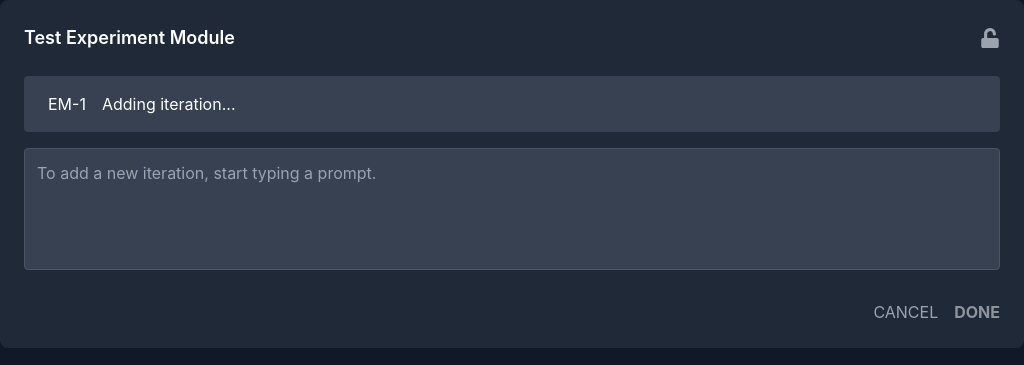
Test: ExperimentModule › collapses module when clicked
The width and height of the screenshot is (1024, 365).
Click the text "Test Experiment Module". click: (129, 38)
box: [24, 24, 235, 52]
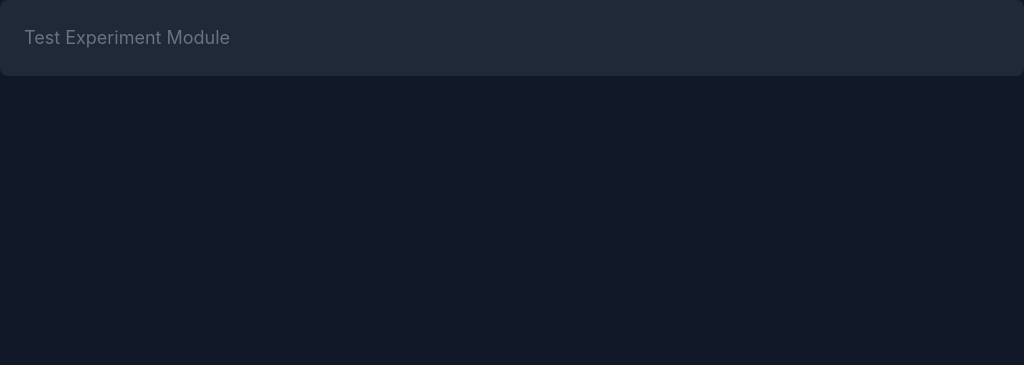
Now the text "EM-1" is gone
